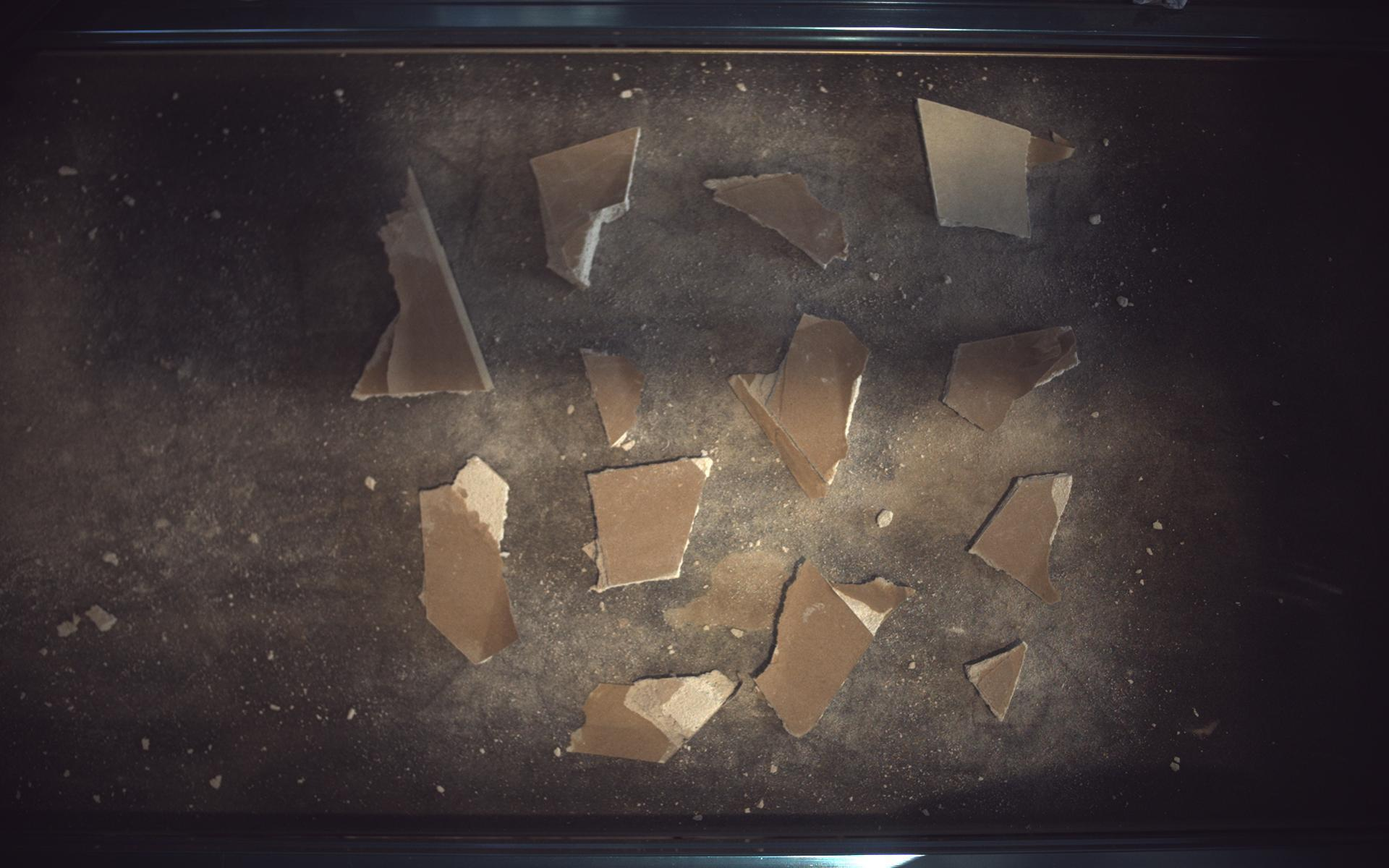gypsum_board: (352, 167, 493, 400), (757, 561, 917, 738), (730, 314, 870, 498), (919, 98, 1077, 237), (420, 457, 518, 665), (531, 126, 642, 289), (587, 458, 714, 593), (569, 671, 737, 765), (944, 326, 1081, 432), (972, 473, 1075, 605), (705, 174, 849, 266), (581, 349, 645, 446), (968, 642, 1030, 723)
